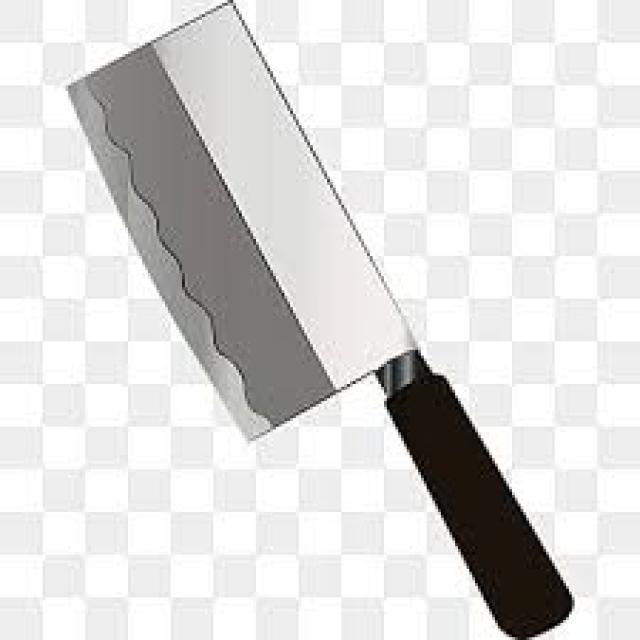Knife: (62, 0, 574, 637)
